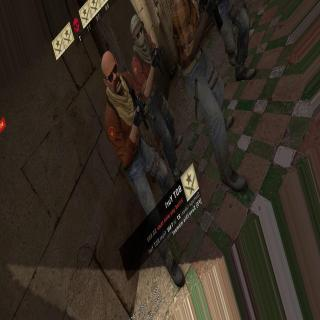T-Body: (92, 47, 182, 286), (128, 16, 188, 164)
T-Head: (100, 48, 120, 92), (130, 16, 144, 44)
